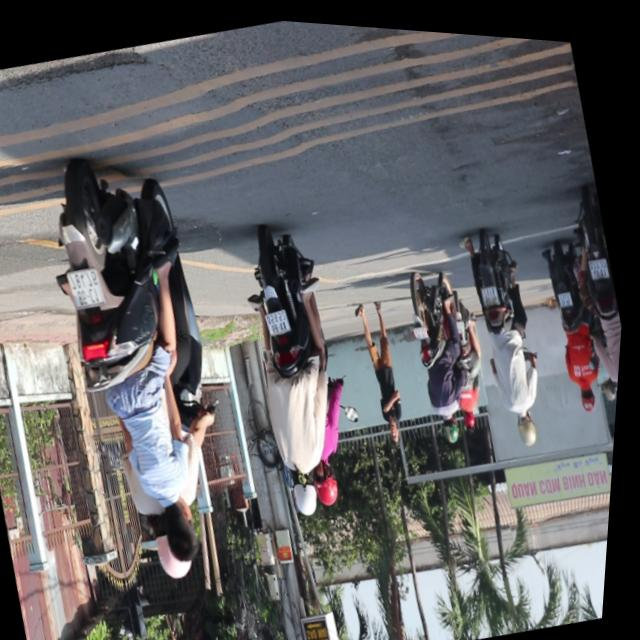helmet: (158, 530, 206, 582), (291, 462, 330, 516), (313, 453, 350, 505), (516, 401, 546, 442)
licenseplate: (14, 131, 277, 601), (221, 209, 385, 521), (452, 216, 568, 448), (554, 176, 633, 415)
motorcyclist: (162, 491, 212, 564)
nohelmet: (66, 263, 111, 310), (267, 304, 297, 334), (590, 247, 613, 272), (483, 276, 504, 301)
